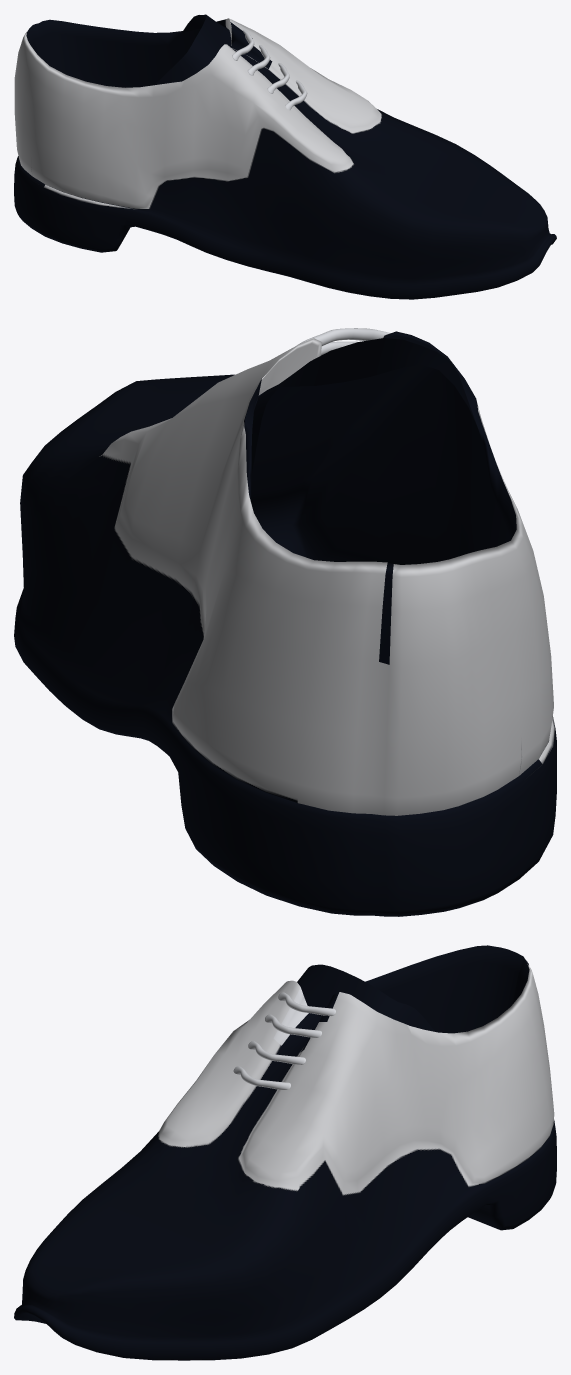
Rendered from Lacedshoe2.fbx.
The picture shows the model from 3 angles, top to bottom: view 1: azimuth 30°, elevation 25°; view 2: azimuth 150°, elevation 25°; view 3: azimuth 270°, elevation 25°; orthographic projection. The views are drawn at different scales.
Parts seen in each view (by area): view 1: Shoe1, pCylinder9; view 2: Shoe1, pCylinder9; view 3: Shoe1, pCylinder9.
Boxes of the visible parts, x1,y1,x2,y2 form: Shoe1: [14, 14, 556, 299]; pCylinder9: [232, 30, 307, 110]; Shoe1: [14, 331, 556, 916]; pCylinder9: [298, 328, 390, 355]; Shoe1: [14, 945, 556, 1360]; pCylinder9: [233, 992, 335, 1089].
Size of the model in its own units: 3.71 by 2.14 by 3.99.
Materials: 2 (2 with a texture image).
